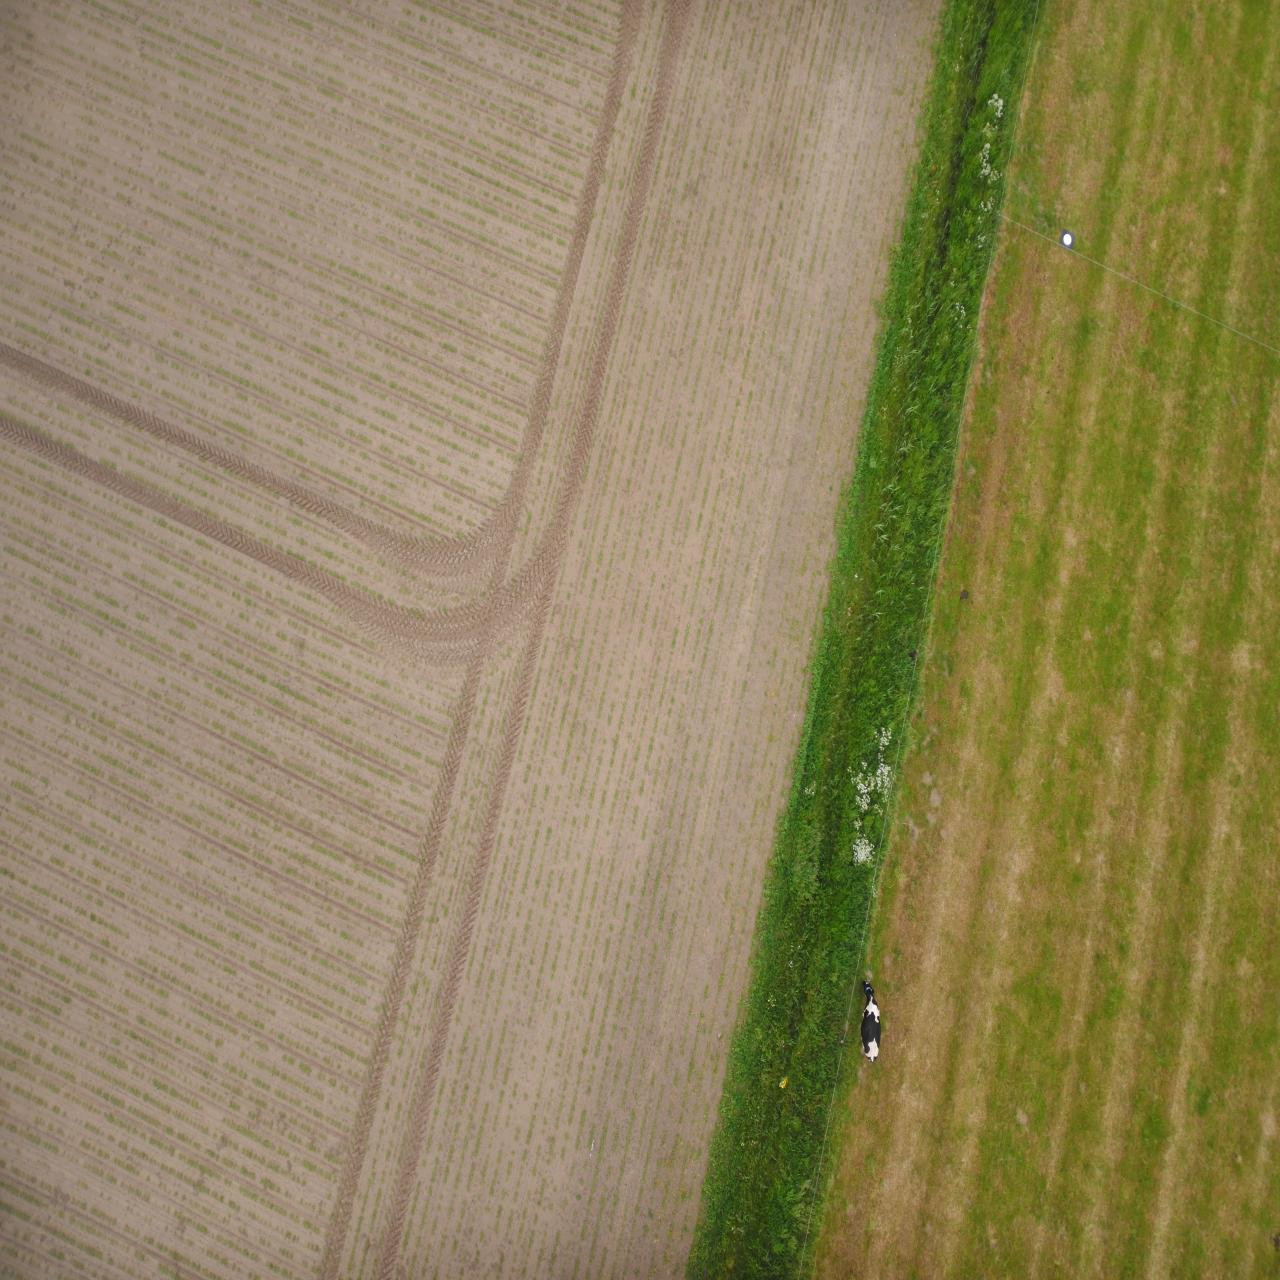cow: (400, 216, 418, 300)
